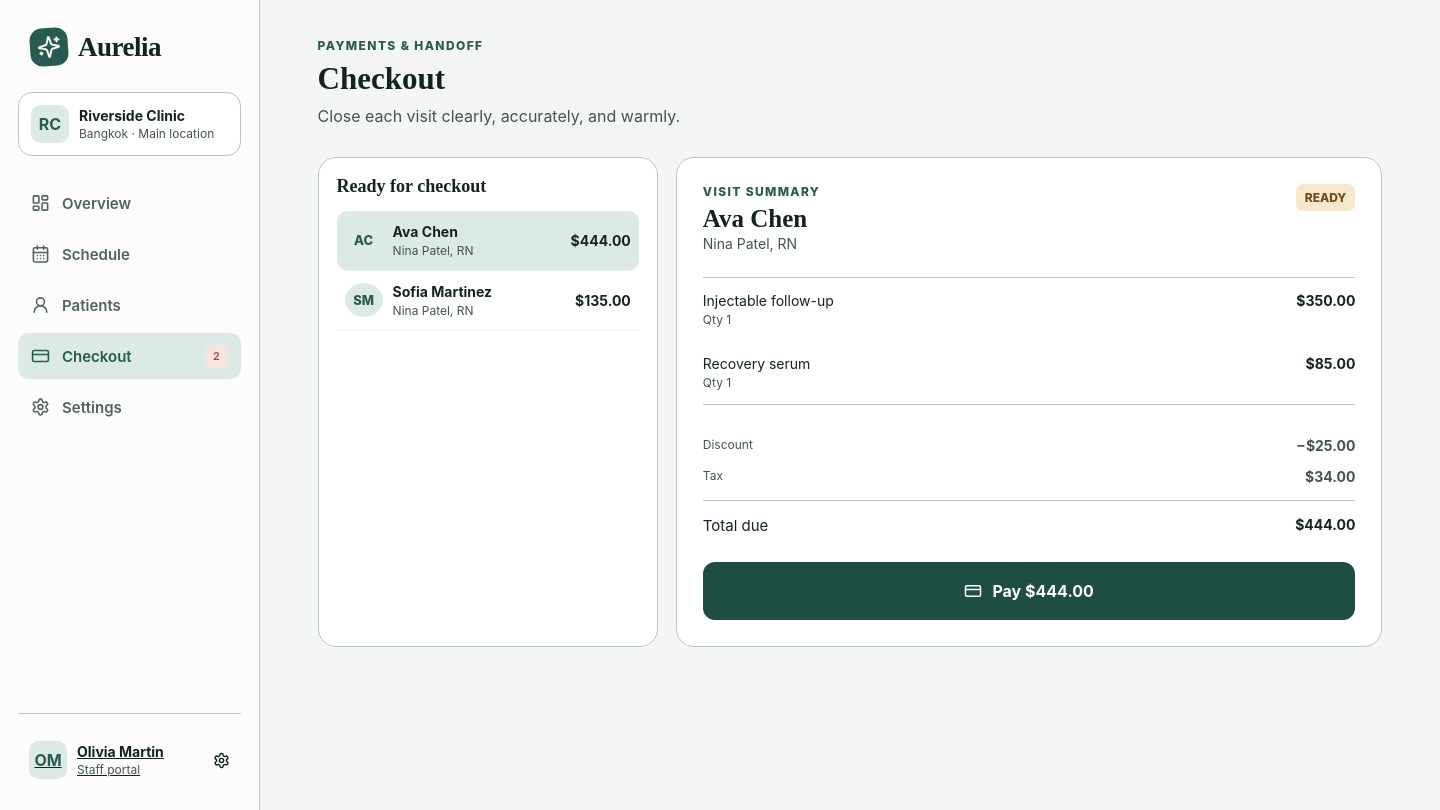
Test case: staff pages › completes a mock checkout
Click the button "Pay $444.00" at (1029, 591), box top-left (703, 562), bottom-right (1355, 620)
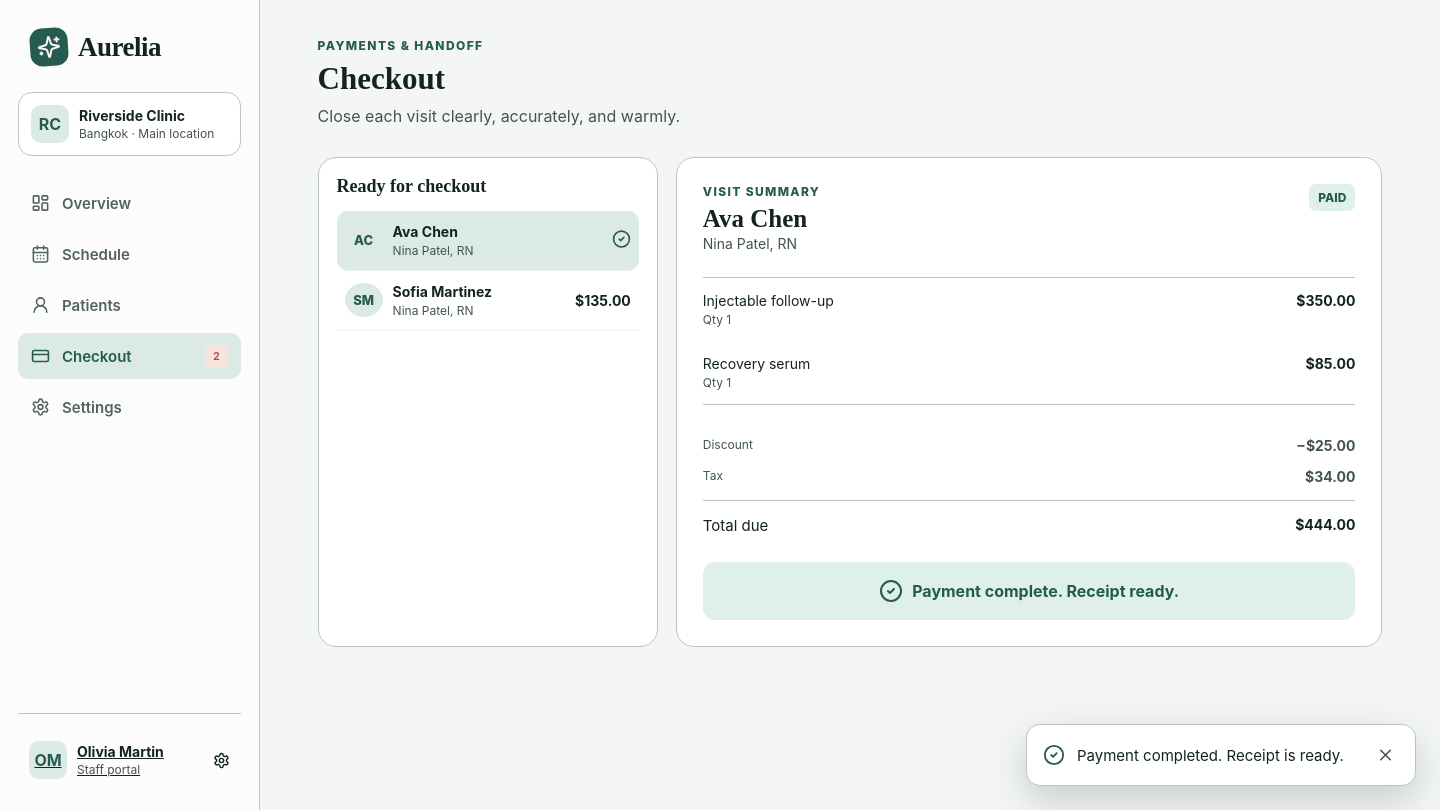
Expected: the text "Payment completed. Receipt is ready." is shown, top-left (1077, 744), bottom-right (1353, 766)
